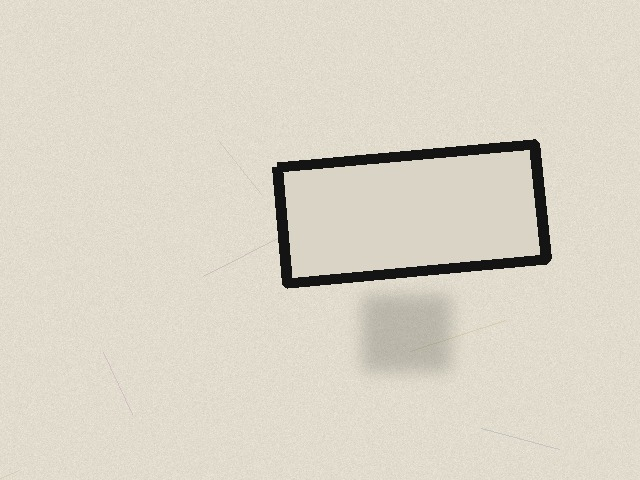parking_area: (277, 144, 546, 283)
